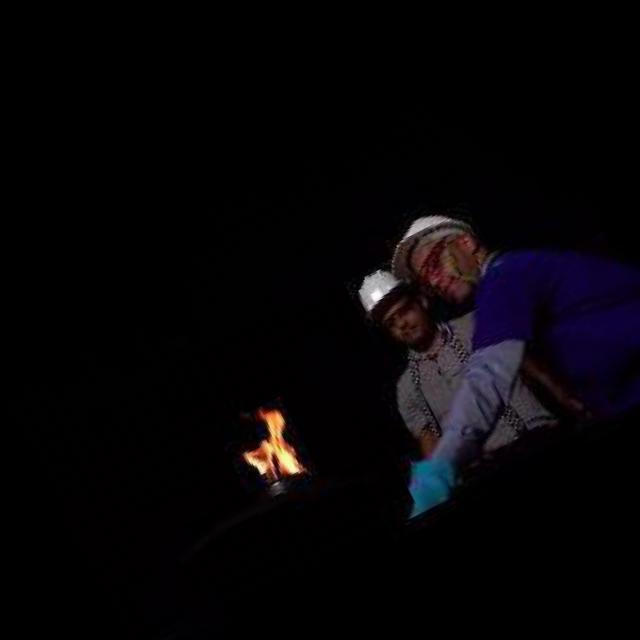fire: (227, 396, 310, 488)
